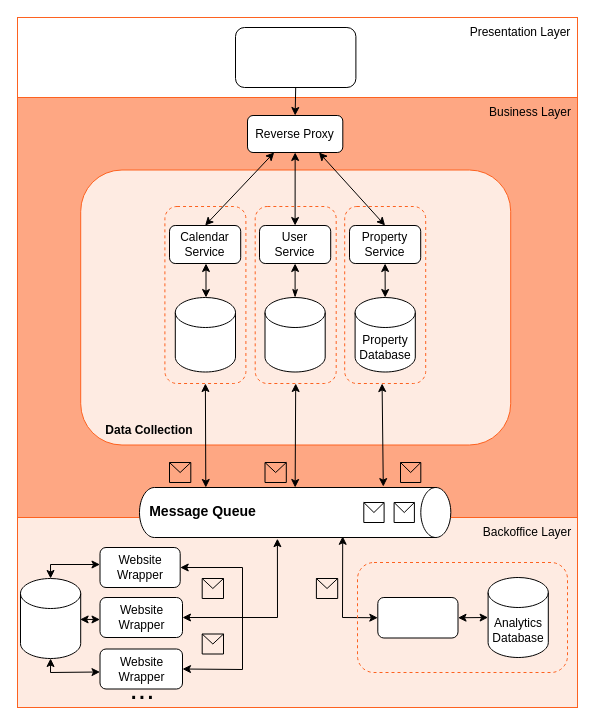
Image size: 595x725. Some labels were removed from this diagram. The shapes that lost their labels are listed below. From the top down, each one's centre as x and y in pixels, then its label:
At point (295, 57): "Display Service".
At point (205, 334): "Calendar Database".
At point (294, 334): "User Database".
At point (50, 618): "Id Mapping Database".
At point (417, 617): "Analytics Service".
